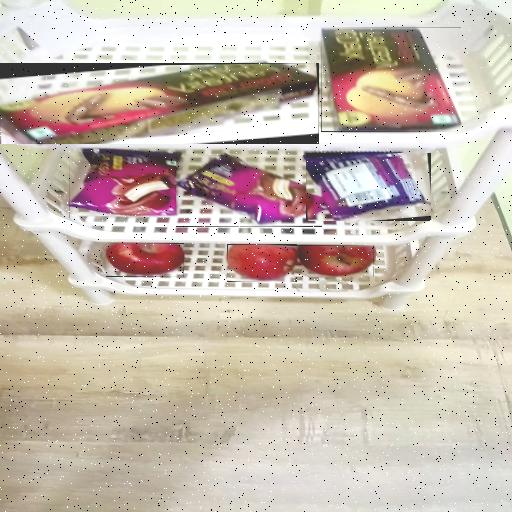Apple: (227, 244, 297, 282), (106, 243, 184, 277), (295, 245, 374, 277)
Choco Fills: (0, 63, 319, 144), (321, 27, 461, 132)
Choco Pie: (176, 155, 322, 227), (306, 153, 431, 221), (69, 150, 181, 218)
